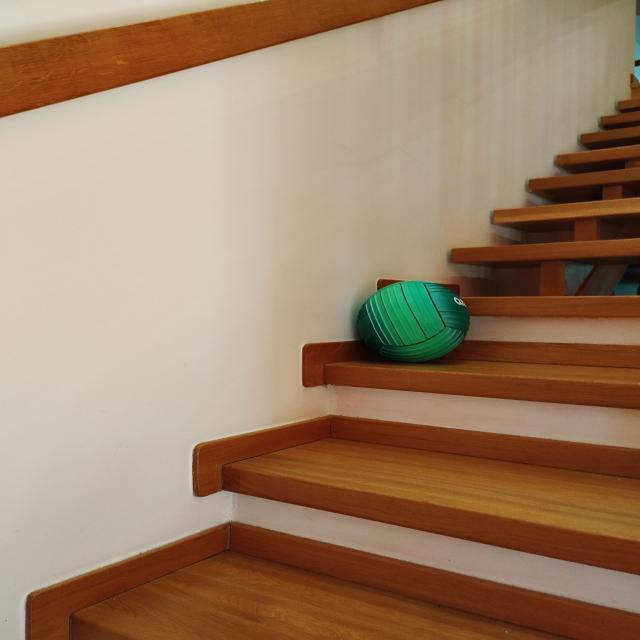zielona: (357, 280, 471, 363)
